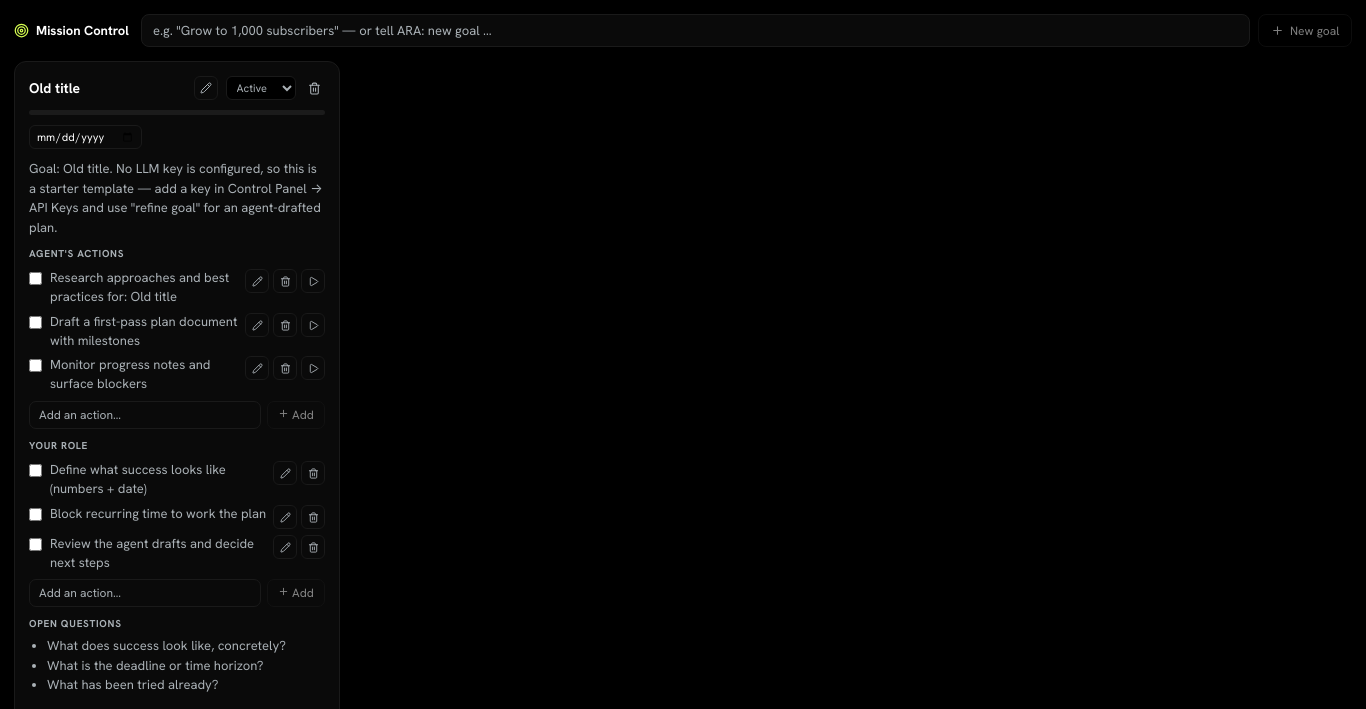
Test case: rename › Enter saves the new title
This screenshot has width=1366, height=709.
Click the button named "Rename goal Old title": [206, 88] box [194,76,218,100]
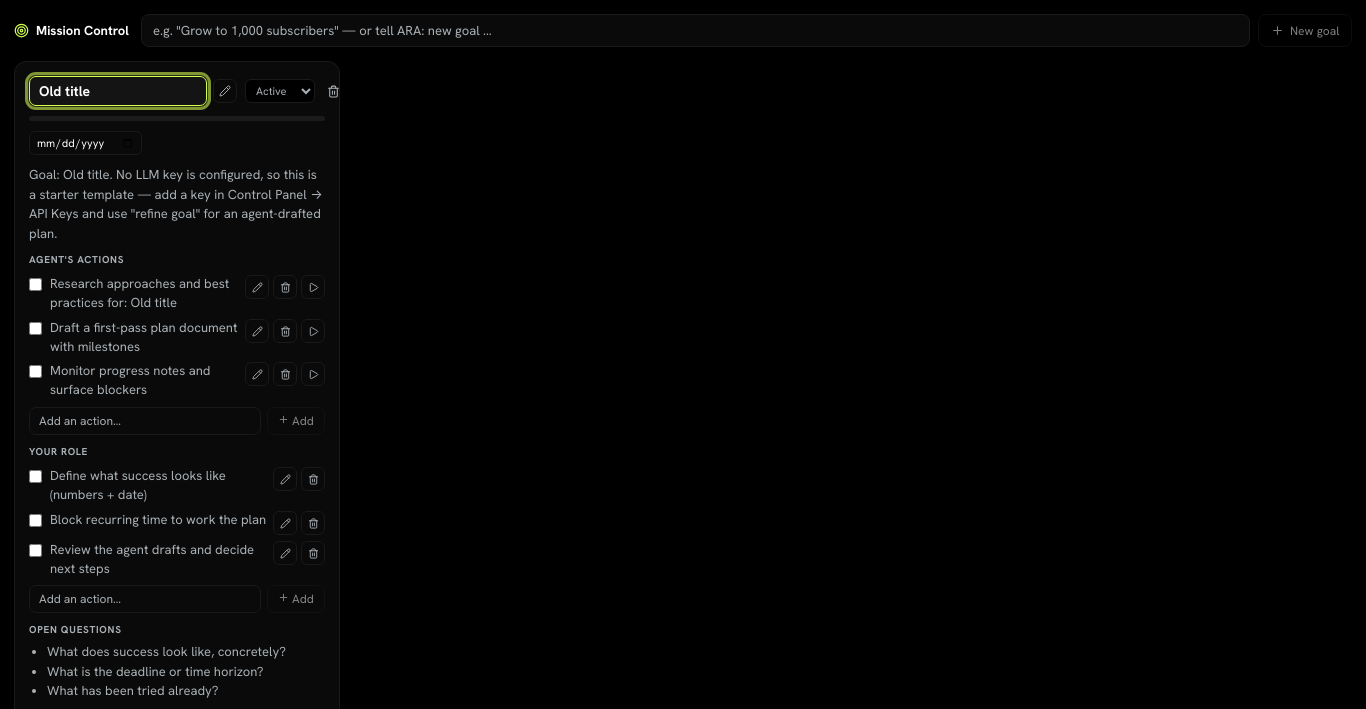
Replace the text in the field named "Goal title" with "New title": [118, 91] box [29,76,207,106]
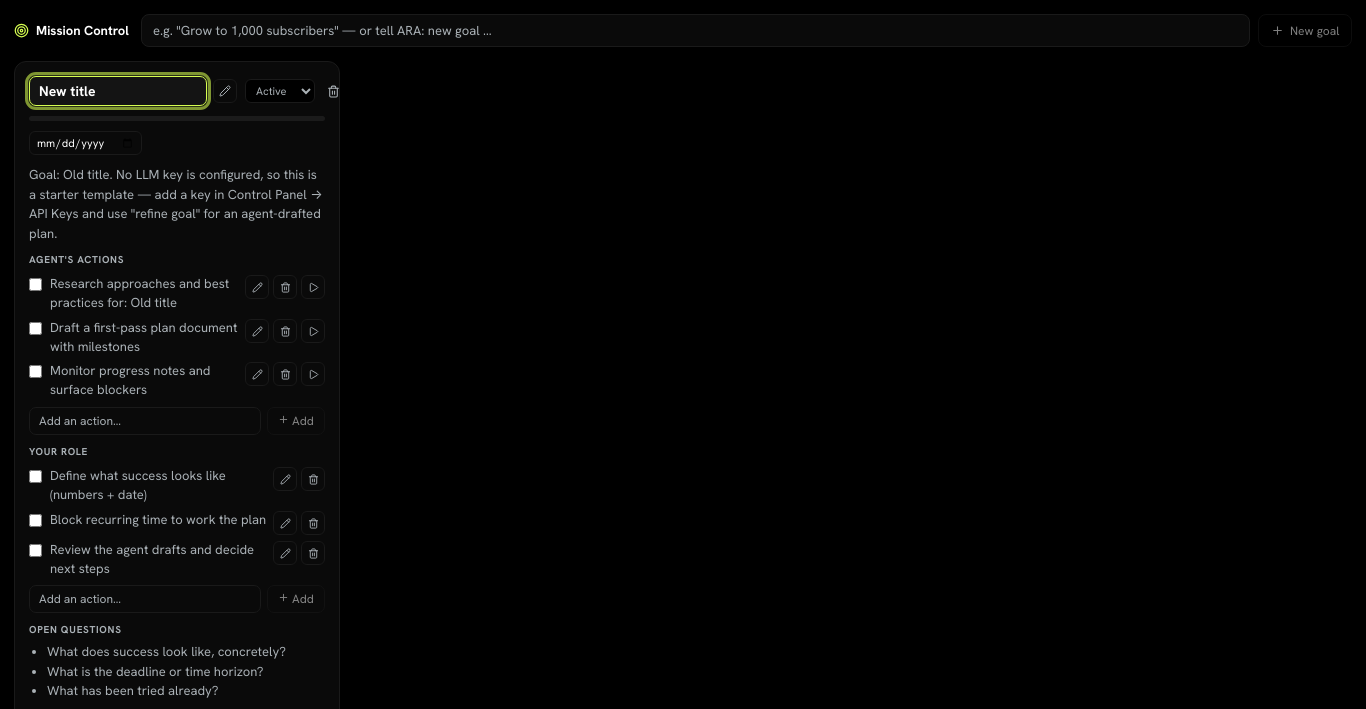
Press Enter in the field named "Goal title", box [29,76,207,106]
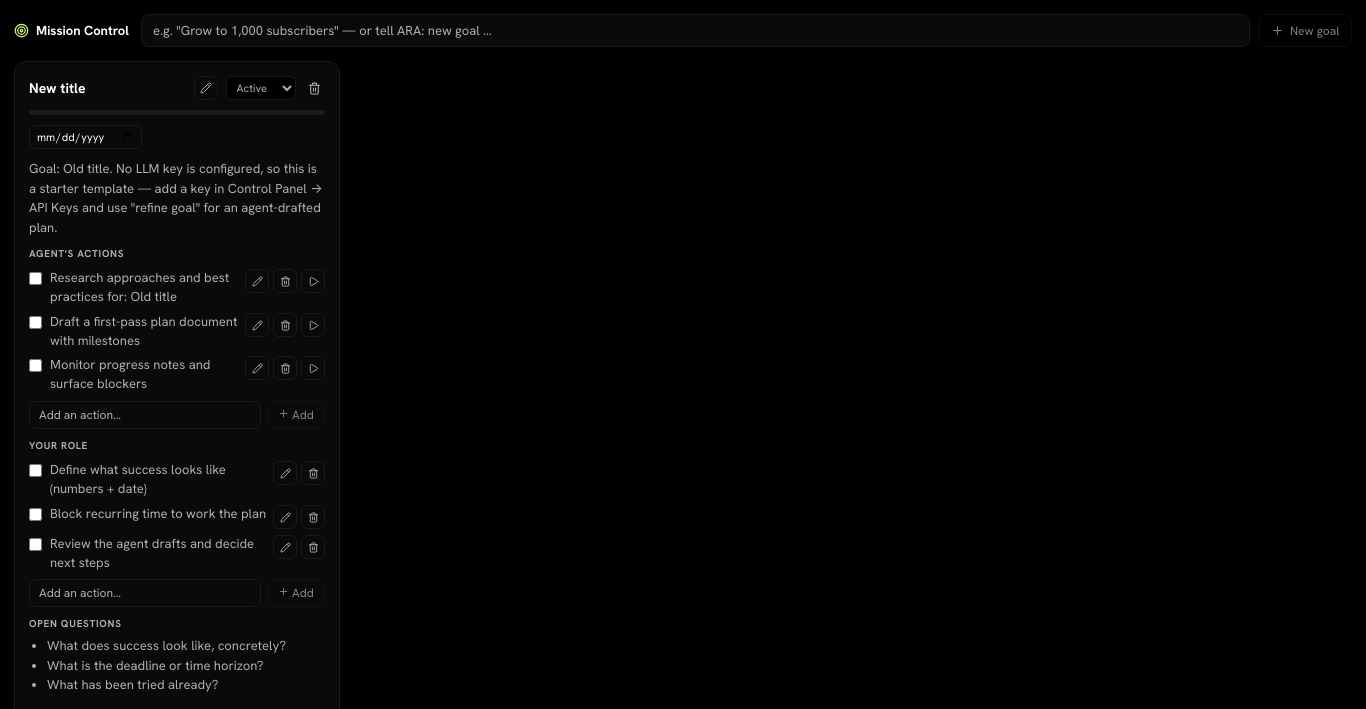
Expected: the heading "New title" is shown, [29,79,86,97]
